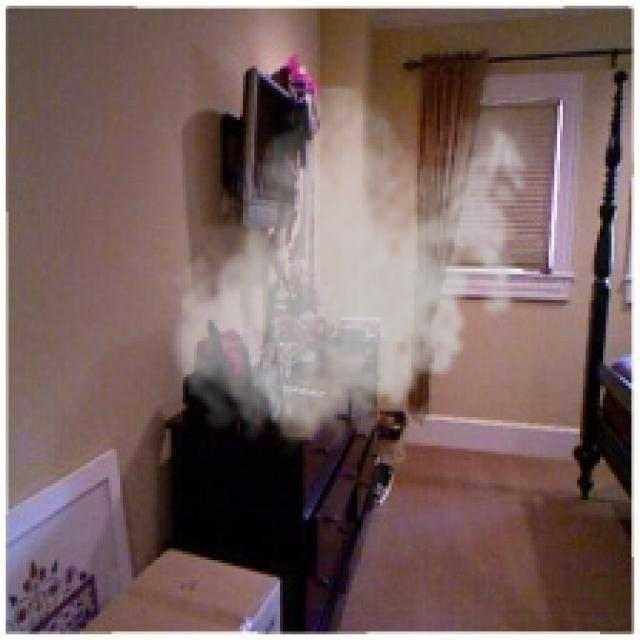smoke: (166, 83, 540, 457)
